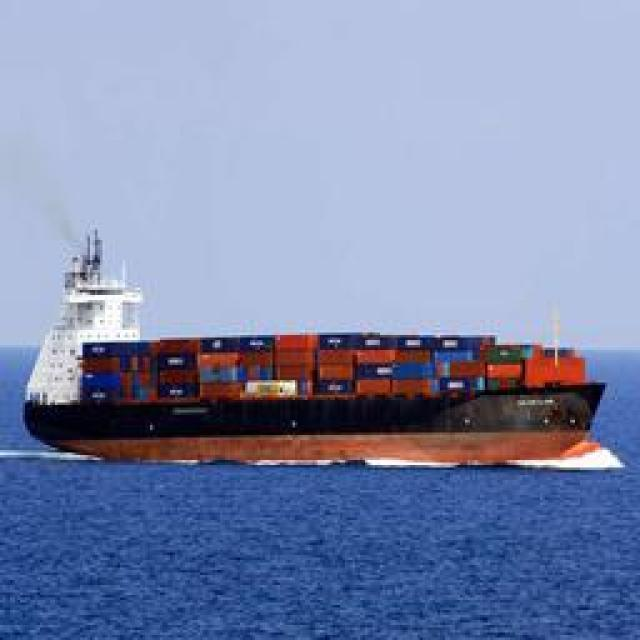ship2: (23, 230, 626, 473)
